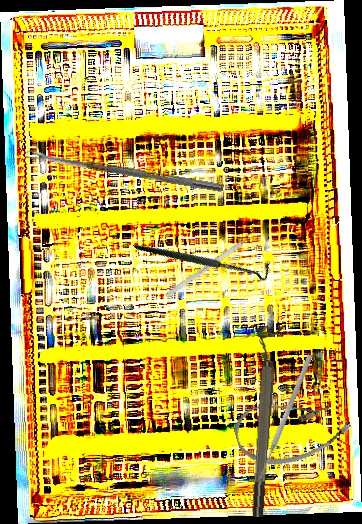Cannula: (228, 380, 357, 477)
Fixation Ring: (240, 325, 284, 518)
Hook Surgical: (132, 189, 275, 326), (164, 228, 262, 299)
Pusher: (256, 353, 314, 481)
Surgical Spoon: (25, 148, 225, 193)
